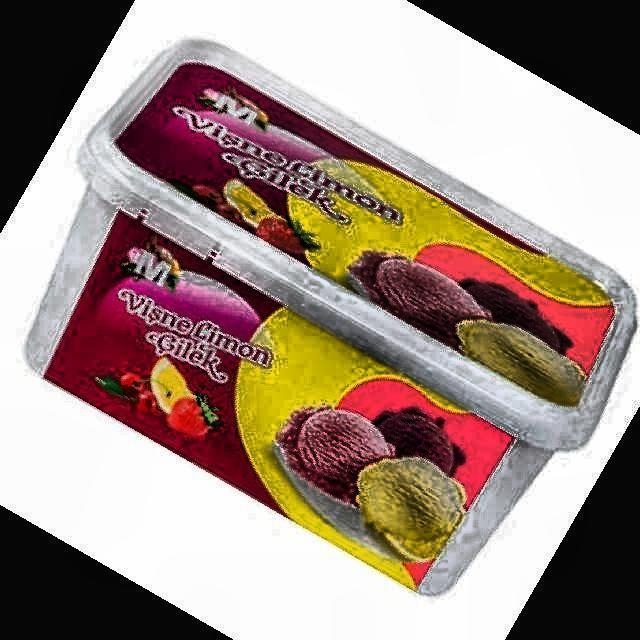plastic: (28, 41, 635, 594)
